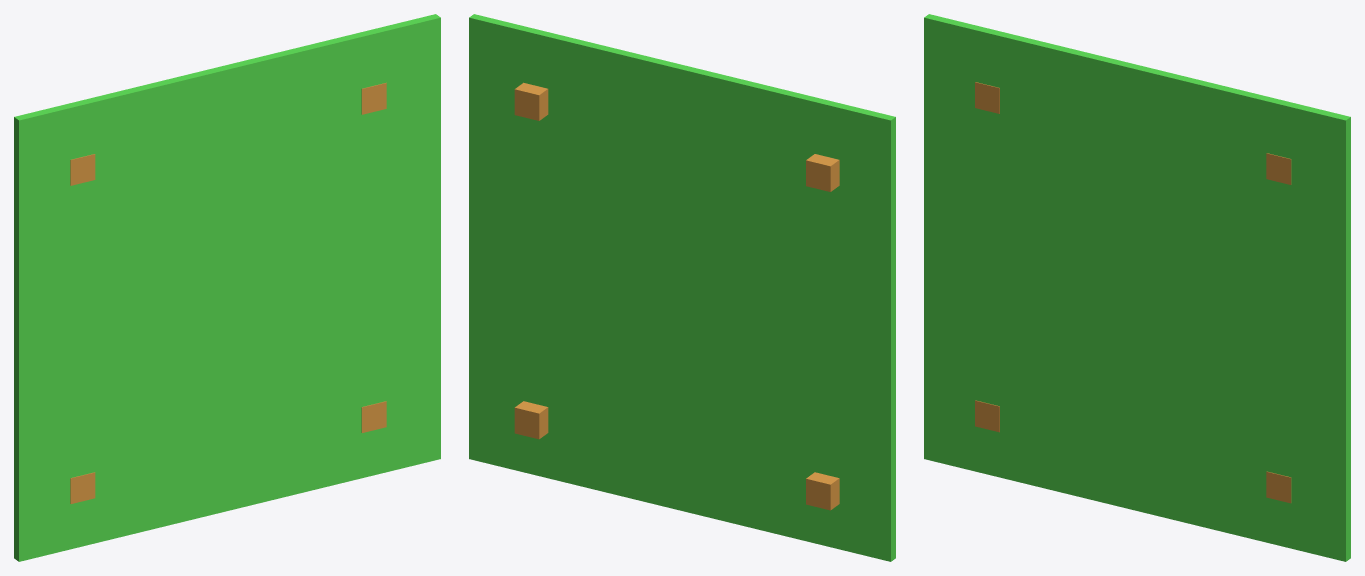
The model's file is ground_cube.dae.
3 renders of one model, left to right at view 1: azimuth 30°, elevation 25°; view 2: azimuth 150°, elevation 25°; view 3: azimuth 330°, elevation 25°, orthographic.
Parts seen in each view (by area): view 1: Ground, Cube.001, Cube.003, Cube.002, Cube.004; view 2: Ground, Cube.001, Cube.002, Cube.003, Cube.004; view 3: Ground, Cube.001, Cube.002, Cube.003, Cube.004.
Boxes of the visible parts, x1,y1,x2,y2 form: Ground: [14, 14, 440, 561]; Cube.001: [361, 401, 386, 432]; Cube.003: [70, 472, 95, 503]; Cube.002: [361, 82, 386, 114]; Cube.004: [70, 154, 95, 185]; Ground: [469, 14, 895, 561]; Cube.001: [514, 401, 548, 439]; Cube.002: [514, 82, 548, 120]; Cube.003: [806, 472, 839, 510]; Cube.004: [806, 154, 839, 191]; Ground: [924, 14, 1350, 561]; Cube.001: [1266, 471, 1291, 503]; Cube.002: [1266, 153, 1291, 184]; Cube.003: [975, 400, 999, 432]; Cube.004: [975, 82, 999, 113].
Bounding box in the file's own units: 34.21 × 2 × 34.21.
